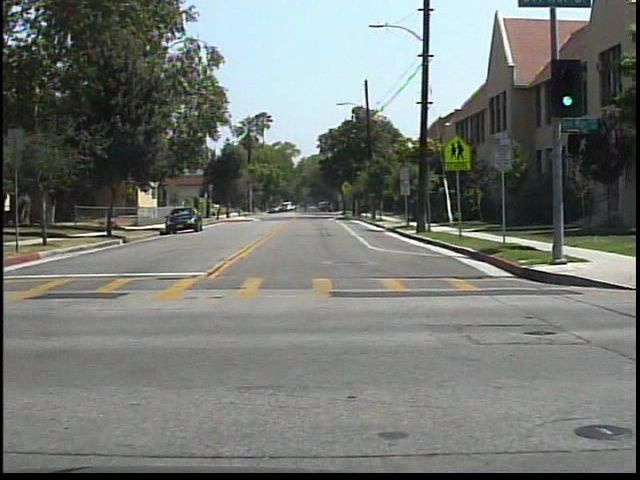person: (298, 198, 312, 216)
